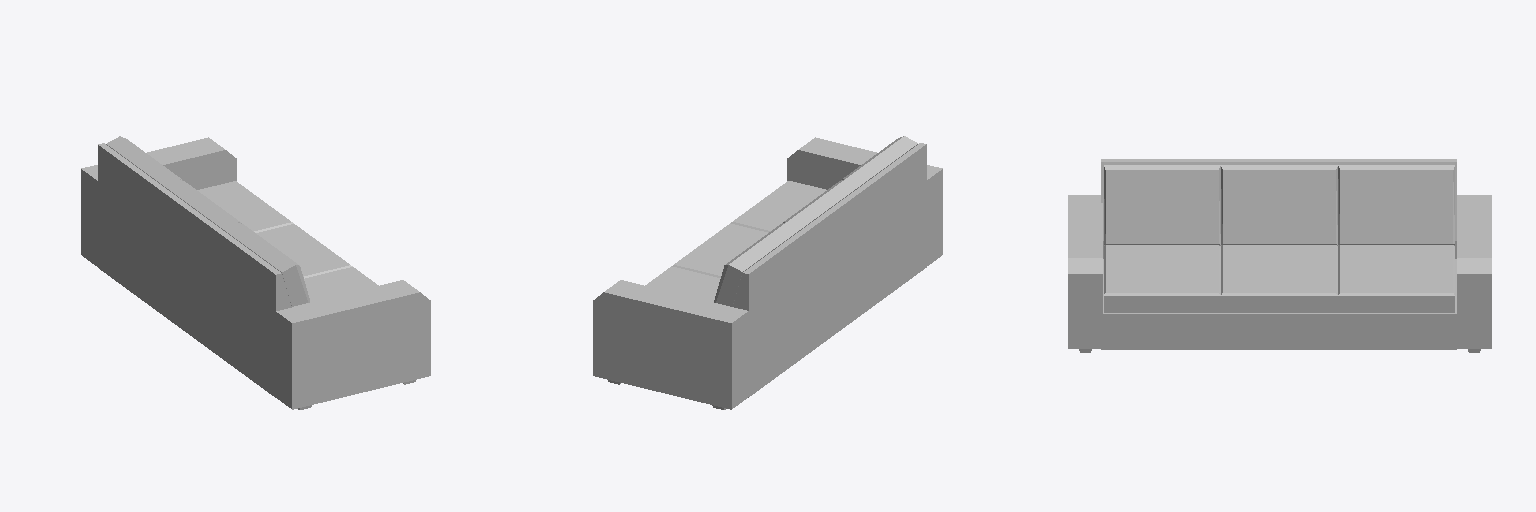
Rendered from sofa2.obj.
The picture shows the model from 3 angles: view 1: azimuth 30°, elevation 25°; view 2: azimuth 150°, elevation 25°; view 3: azimuth 270°, elevation 25°; orthographic projection.
Parts seen in each view (by area): view 1: couch_Cube.029; view 2: couch_Cube.029; view 3: couch_Cube.029.
Part boxes in pixels (x1,y1,x2,y2): couch_Cube.029: (81, 136, 430, 409); couch_Cube.029: (593, 136, 942, 409); couch_Cube.029: (1068, 159, 1491, 352).
Bounding box in the file's own units: 10.52 × 9.76 × 27.79.